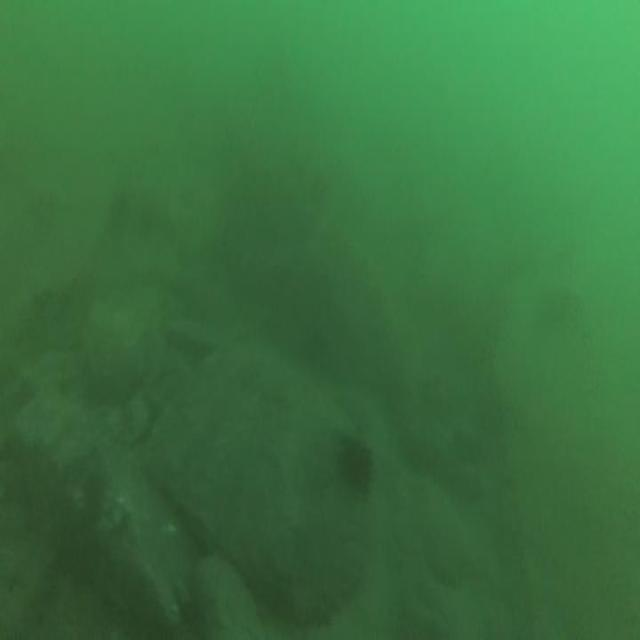echinus: (337, 431, 372, 490)
